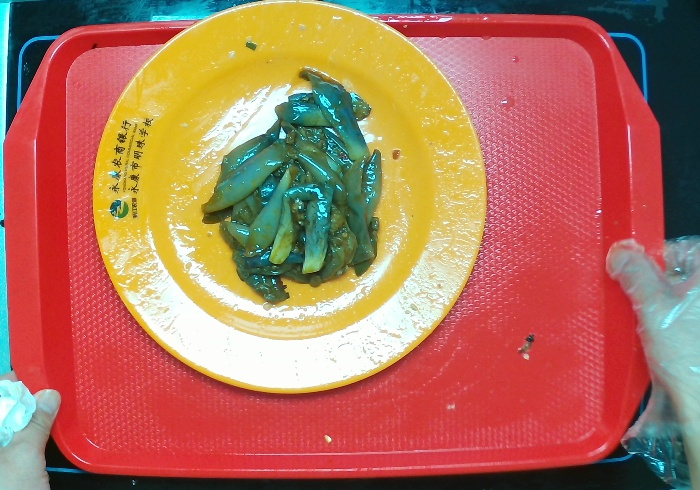YKMZ-Ju_Se_Mian_Pan: (89, 1, 487, 399)
